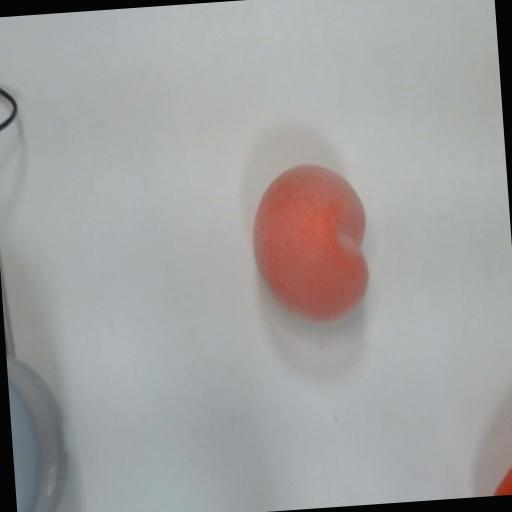Ripe: (228, 155, 376, 336)
